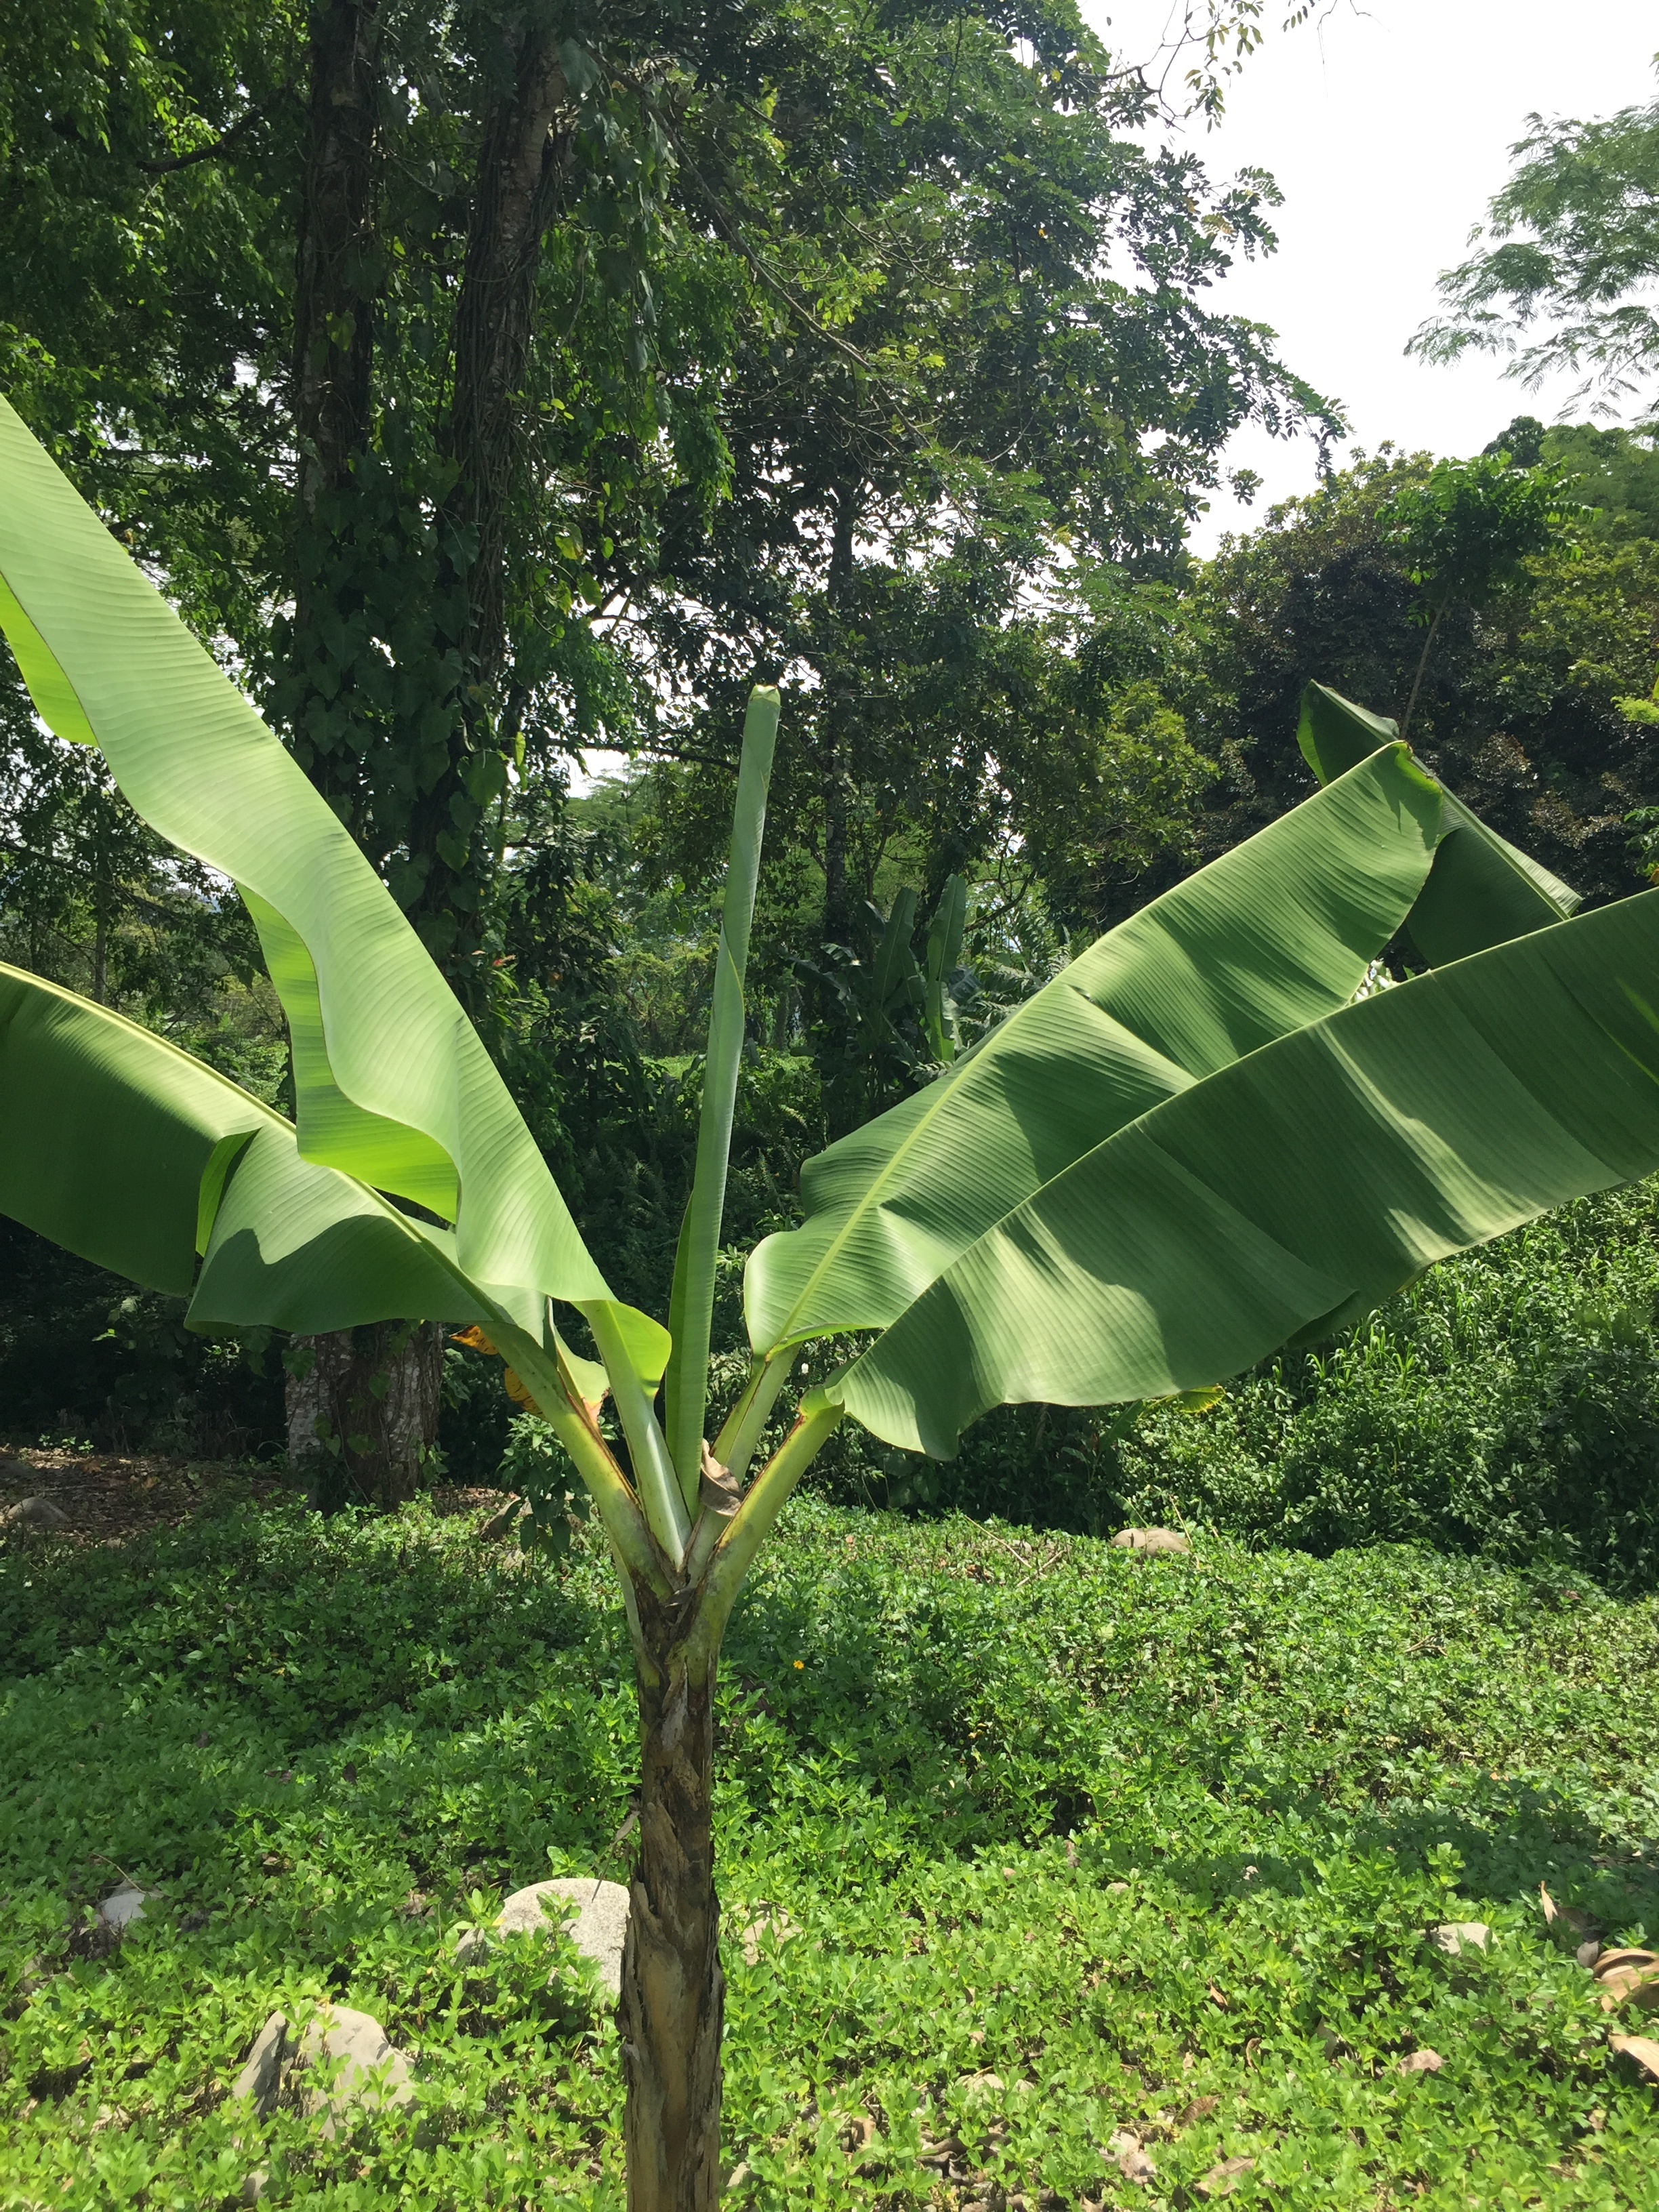candleleafs: (662, 690, 782, 1493)
